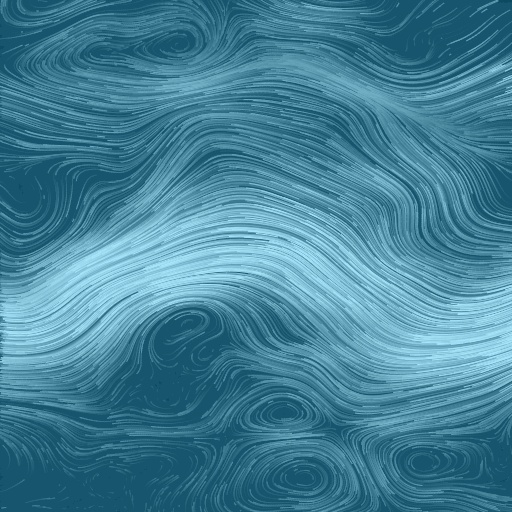eddy: (251, 447, 346, 509), (383, 434, 483, 488), (239, 388, 319, 433), (132, 18, 204, 66), (148, 306, 214, 352)
